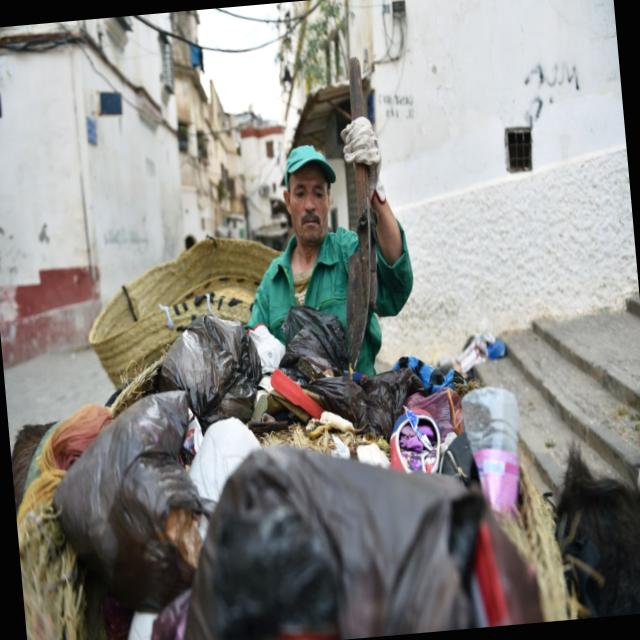garbage: (2, 309, 640, 640)
